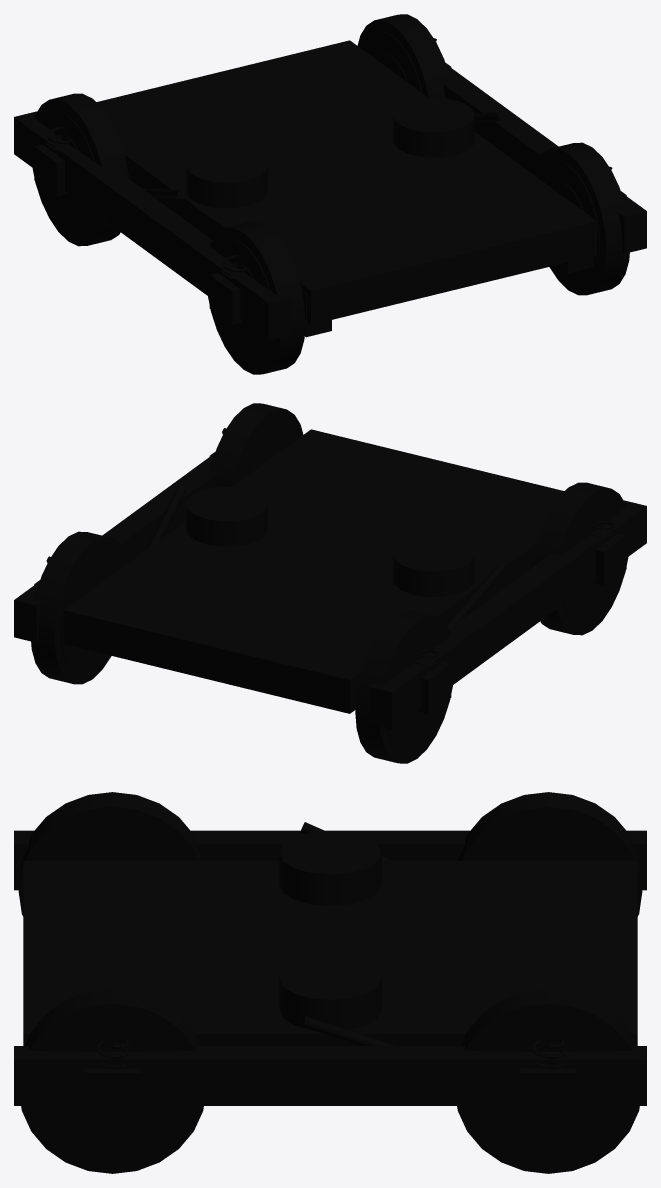
The model's file is bogie.obj.
3 renders of one model, top to bottom at view 1: azimuth 30°, elevation 25°; view 2: azimuth 150°, elevation 25°; view 3: azimuth 270°, elevation 25°, orthographic. The views are drawn at different scales.
Visible parts, largest first — view 1: bogie; view 2: bogie; view 3: bogie.
Part boxes in pixels (left/top/right/bottom): bogie: left=14, top=14, right=646, bottom=374; bogie: left=14, top=403, right=646, bottom=763; bogie: left=14, top=792, right=646, bottom=1173.
Size of the model in its own units: 2.44 by 0.81 by 2.73.
